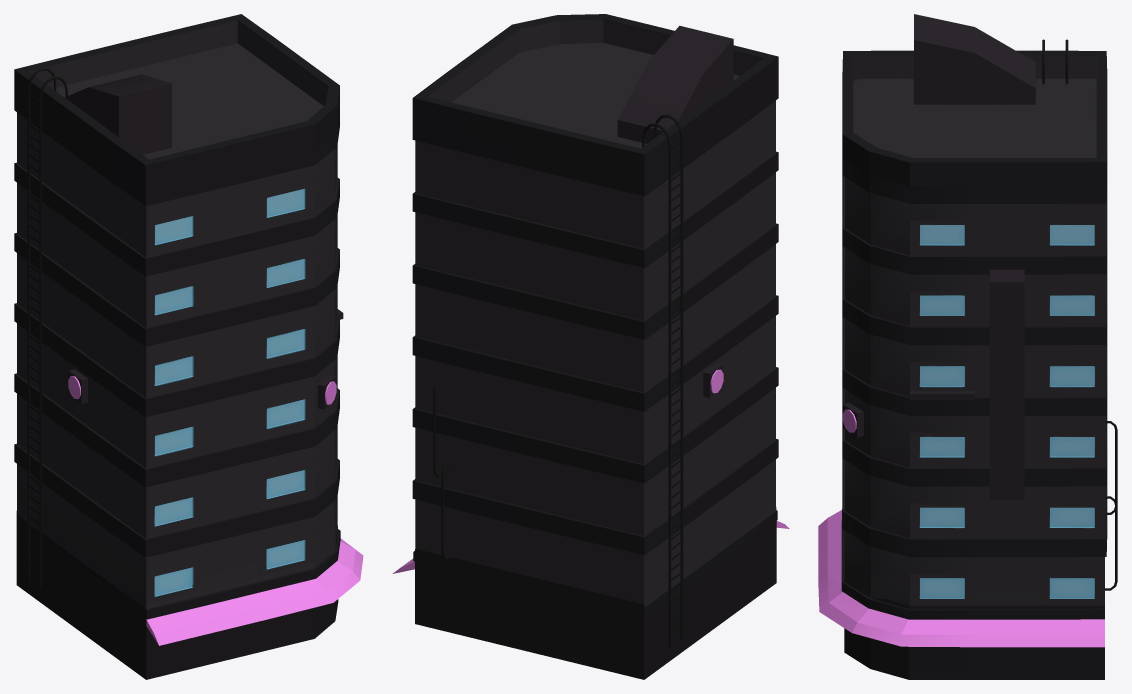
Rendered from building_03.fbx.
3 renders of one model, left to right at view 1: azimuth 30°, elevation 25°; view 2: azimuth 150°, elevation 25°; view 3: azimuth 270°, elevation 25°, orthographic. The views are drawn at different scales.
Parts seen in each view (by area): view 1: polySurface10; view 2: polySurface10; view 3: polySurface10.
Part boxes in pixels (left/top/right/bottom): polySurface10: left=14, top=14, right=363, bottom=679; polySurface10: left=392, top=14, right=789, bottom=679; polySurface10: left=818, top=14, right=1117, bottom=679.
Size of the model in its own units: 1199 by 2375 by 1152.
1 material, 1 textured.
